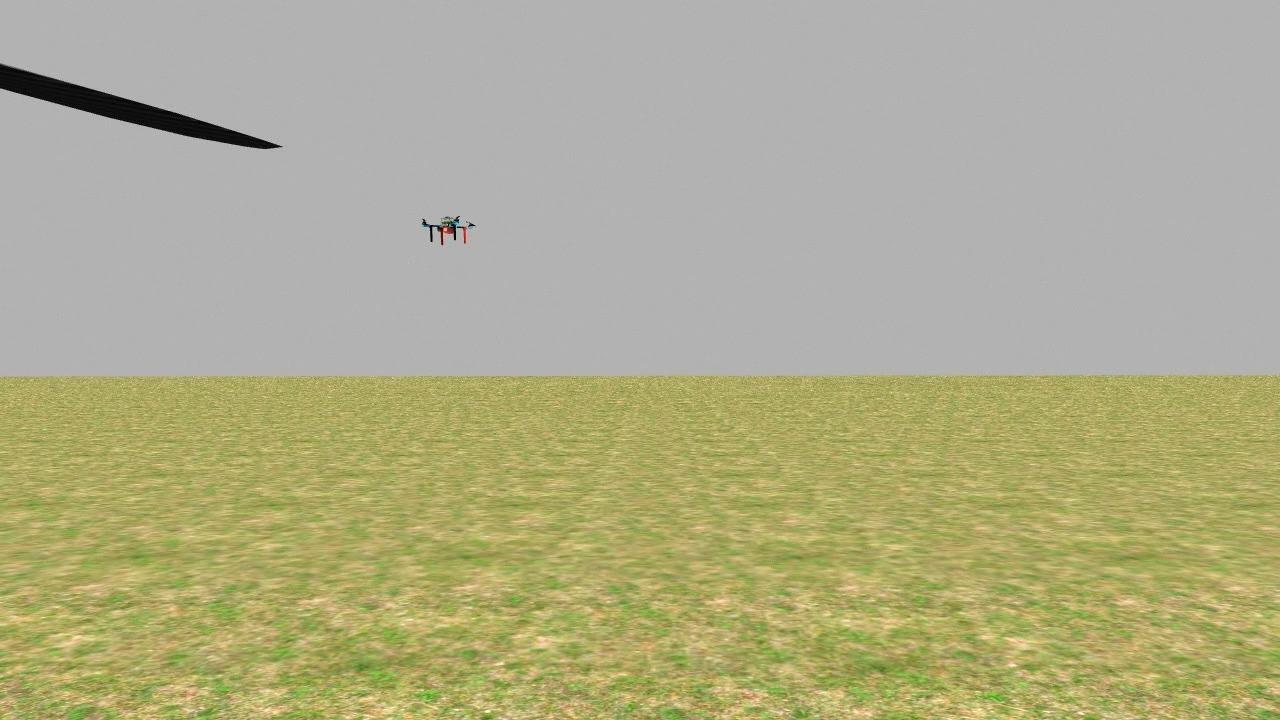UAV: (410, 207, 486, 256)
